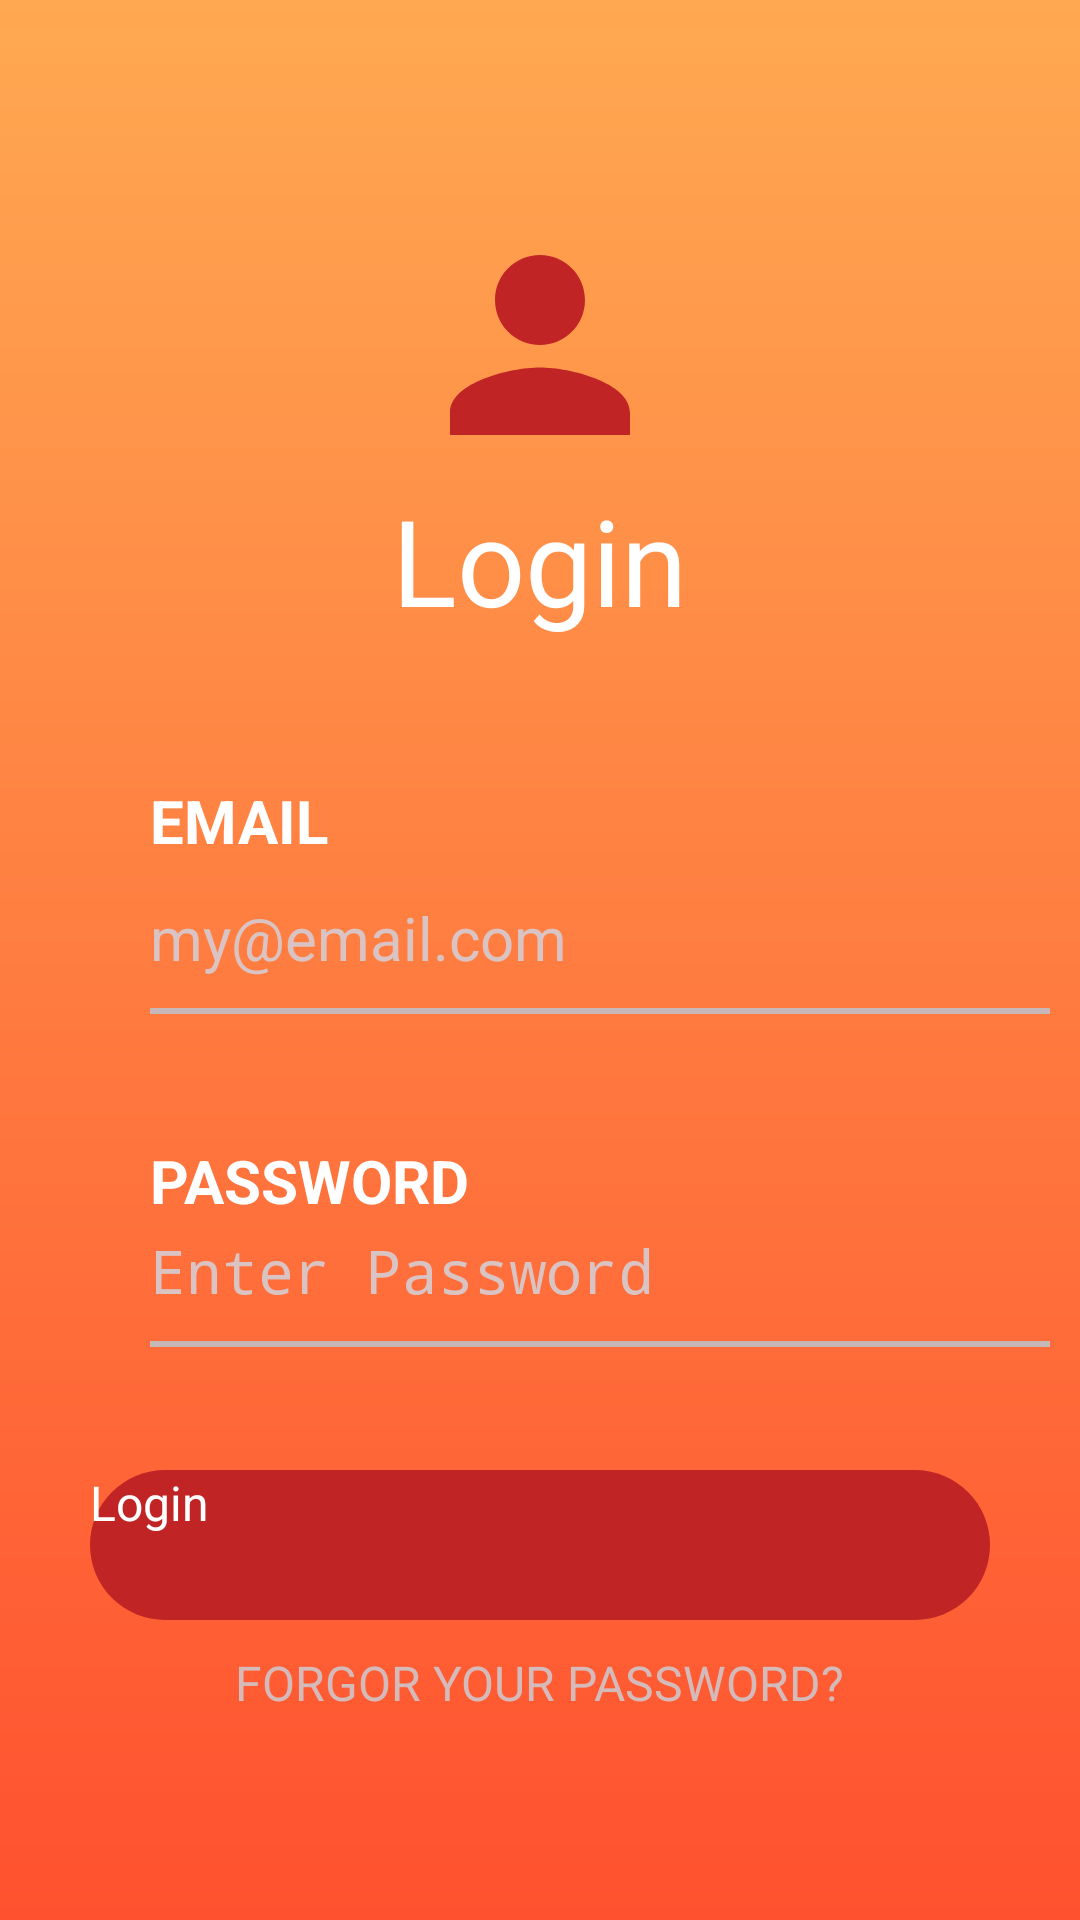

Where to tap for icons on this 1080 × 1920 app screen, as (x=x, y=y):
person: (x=540, y=345)
